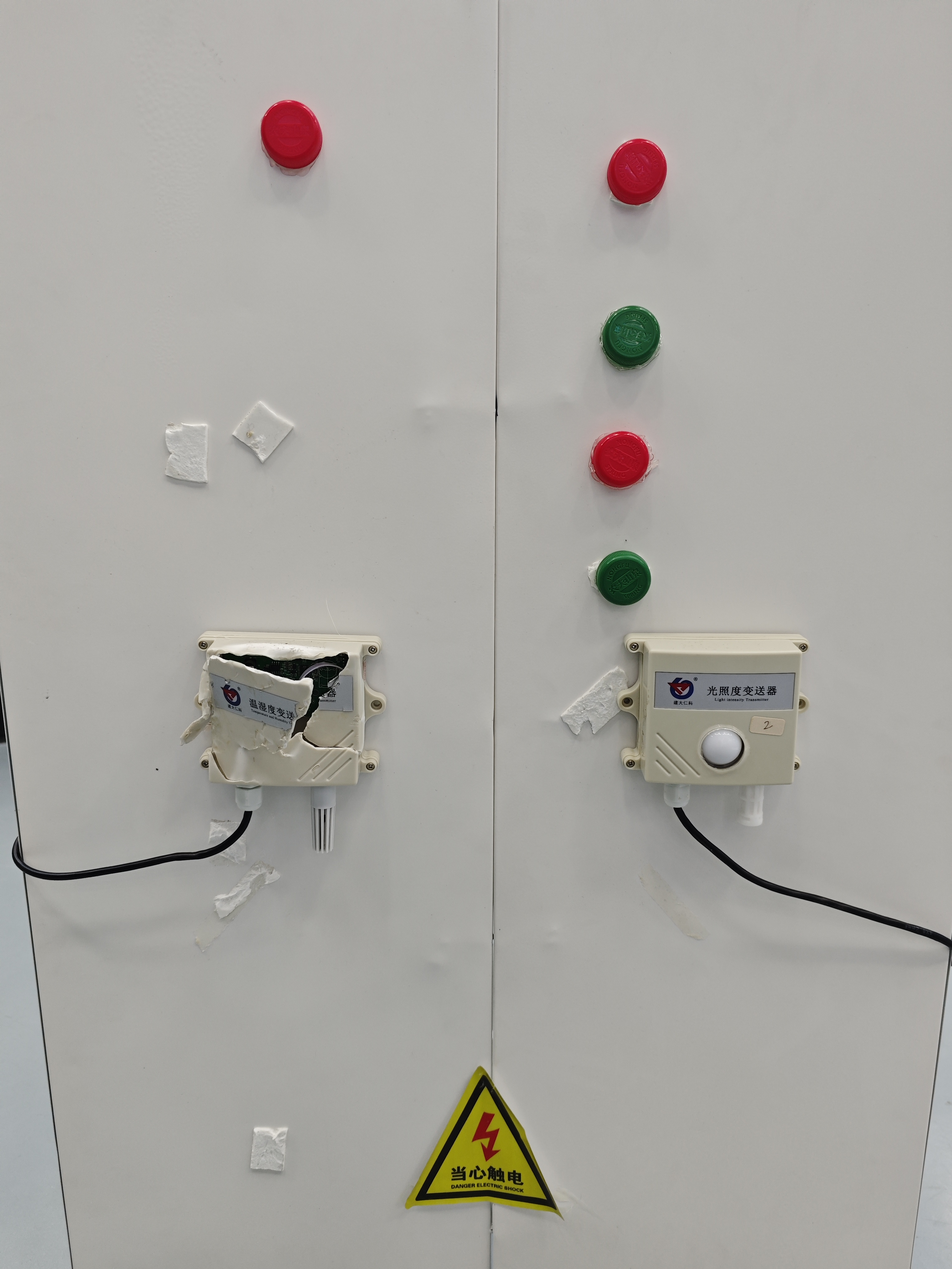red_warning: (233, 72, 362, 201), (593, 111, 686, 228), (571, 402, 662, 505)
sensor_damage: (149, 577, 424, 868)
